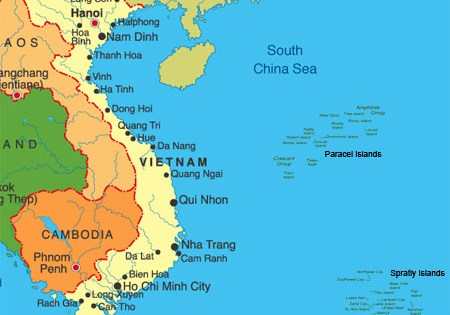Island: (268, 98, 399, 181), (331, 262, 450, 315)
